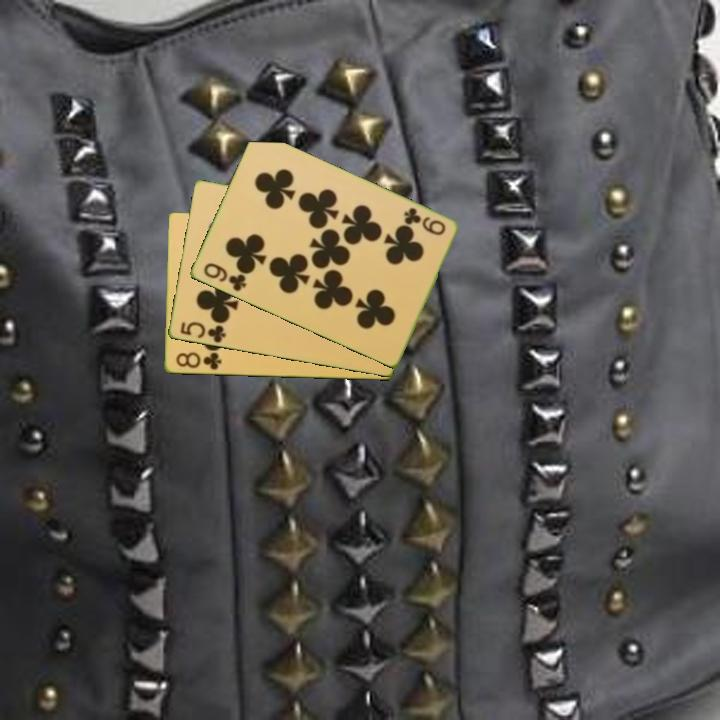5c: (176, 318, 228, 346)
8c: (172, 348, 224, 373)
9c: (200, 259, 249, 295), (400, 204, 448, 239)
